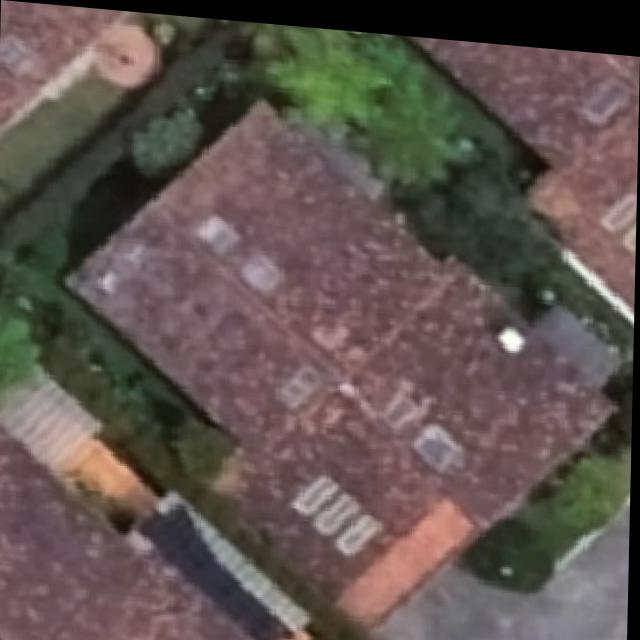Batiment: (71, 101, 613, 620), (410, 29, 638, 304), (0, 432, 255, 640), (0, 1, 120, 124)
